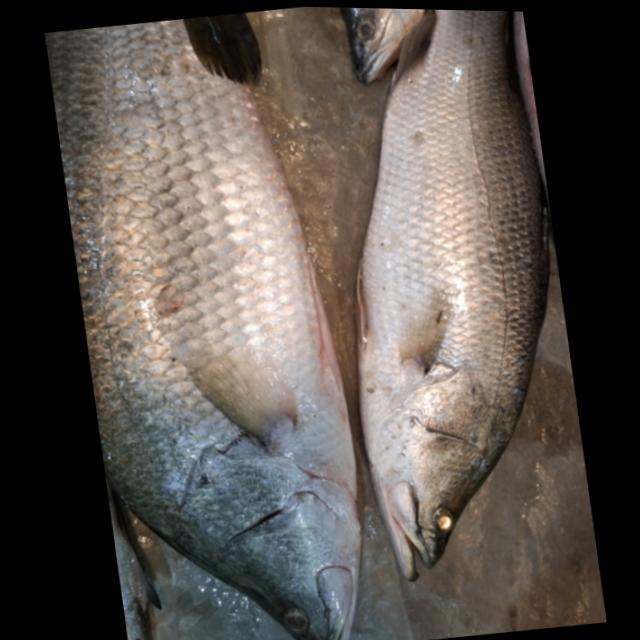Seabass: (43, 2, 380, 640), (302, 7, 595, 588)
